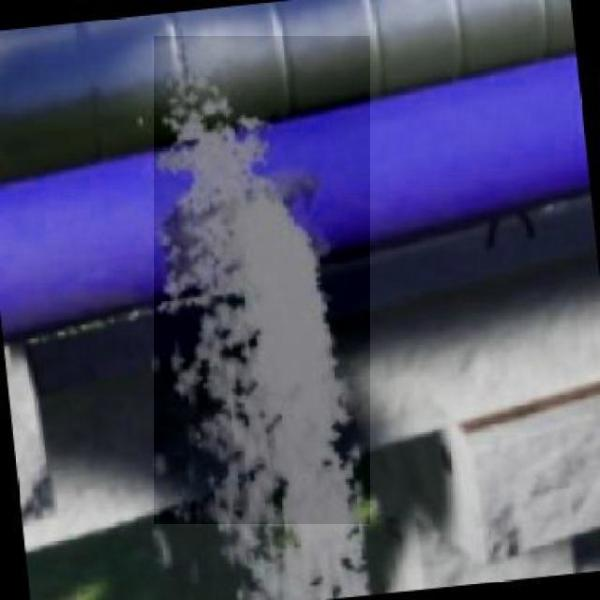gas: (154, 36, 370, 524)
